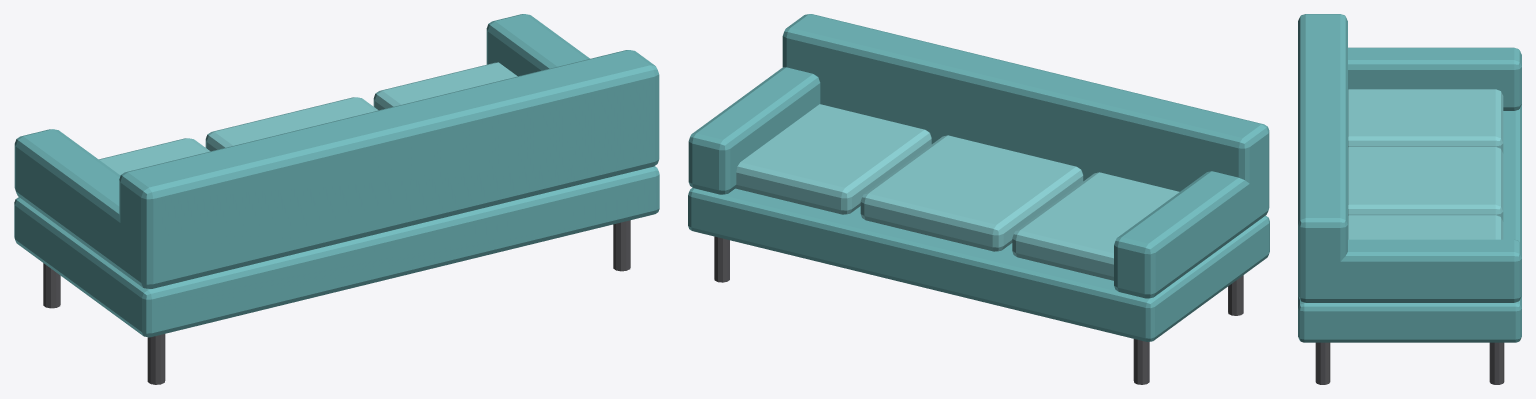
File: sofa.glb
3 renders of one model, left to right at view 1: azimuth 30°, elevation 25°; view 2: azimuth 150°, elevation 25°; view 3: azimuth 270°, elevation 25°, orthographic. The views are drawn at different scales.
Parts seen in each view (by area): view 1: Sofa; view 2: Sofa; view 3: Sofa.
Part boxes in pixels (x1=…): Sofa: x1=14, y1=14, x2=659, y2=384; Sofa: x1=688, y1=14, x2=1269, y2=384; Sofa: x1=1298, y1=14, x2=1521, y2=384.
Size of the model in its own units: 4 by 1.52 by 1.8.
